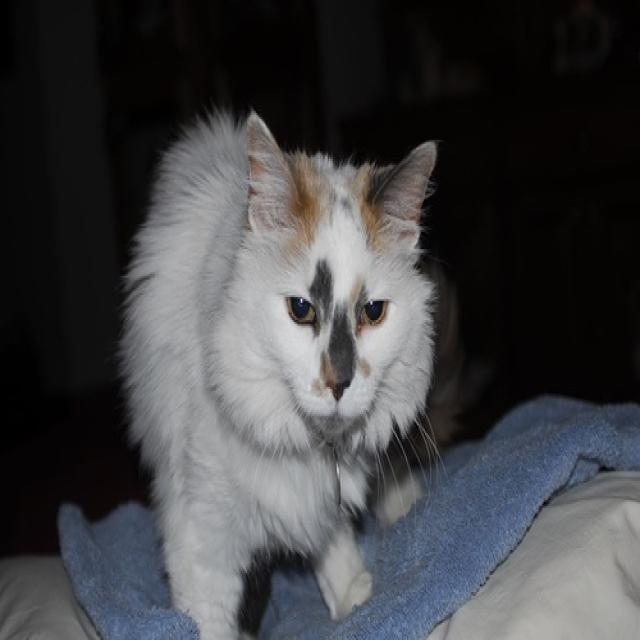cat: (117, 107, 464, 638)
